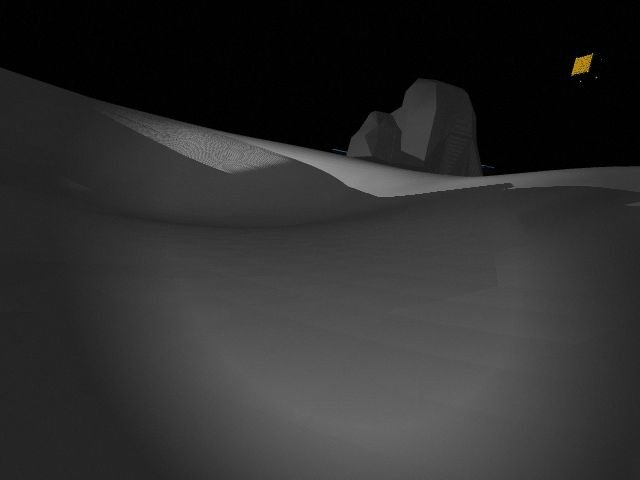cubesat: (567, 49, 611, 88)
